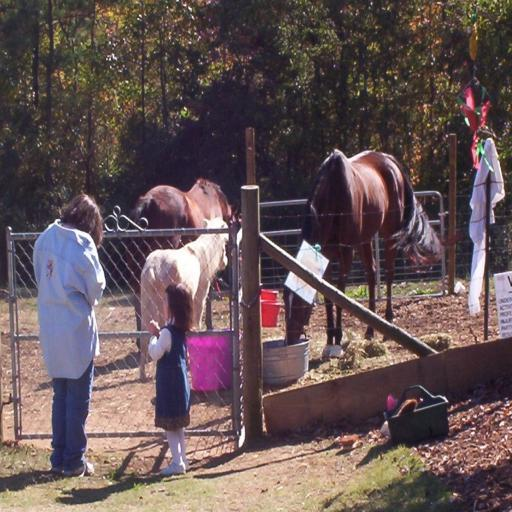horse: (280, 146, 442, 360), (130, 178, 240, 332), (138, 216, 228, 380)
